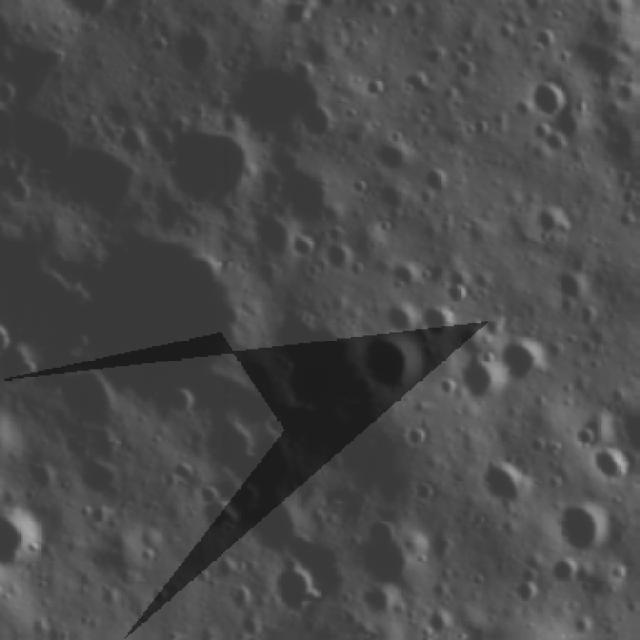crater: (69, 232, 262, 414), (152, 112, 268, 216), (224, 48, 338, 146), (355, 328, 433, 408), (354, 518, 434, 596), (0, 505, 62, 586), (550, 500, 621, 563), (452, 354, 510, 424), (269, 556, 325, 626), (472, 461, 537, 517), (498, 336, 562, 392), (524, 72, 581, 123), (169, 25, 217, 78), (0, 342, 43, 400), (586, 448, 640, 494), (532, 124, 582, 168), (548, 268, 598, 312), (419, 298, 458, 344), (530, 202, 572, 244), (324, 236, 362, 281), (0, 404, 20, 484), (437, 280, 475, 312), (0, 316, 15, 361)
